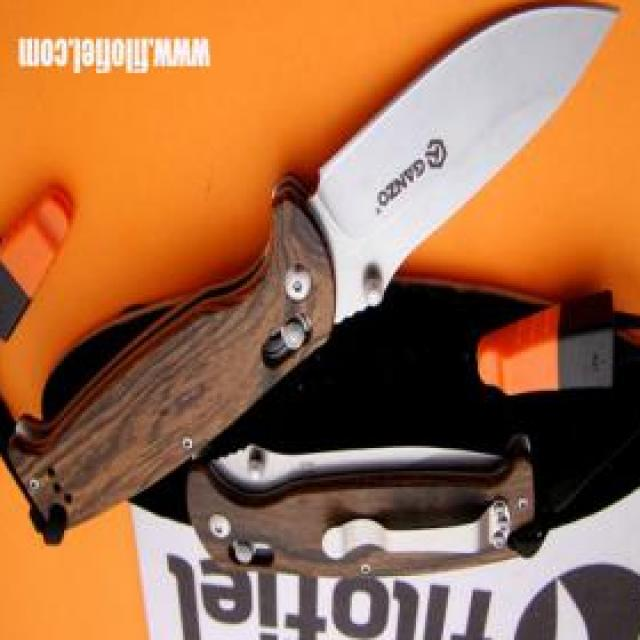knife: (311, 0, 629, 332)
